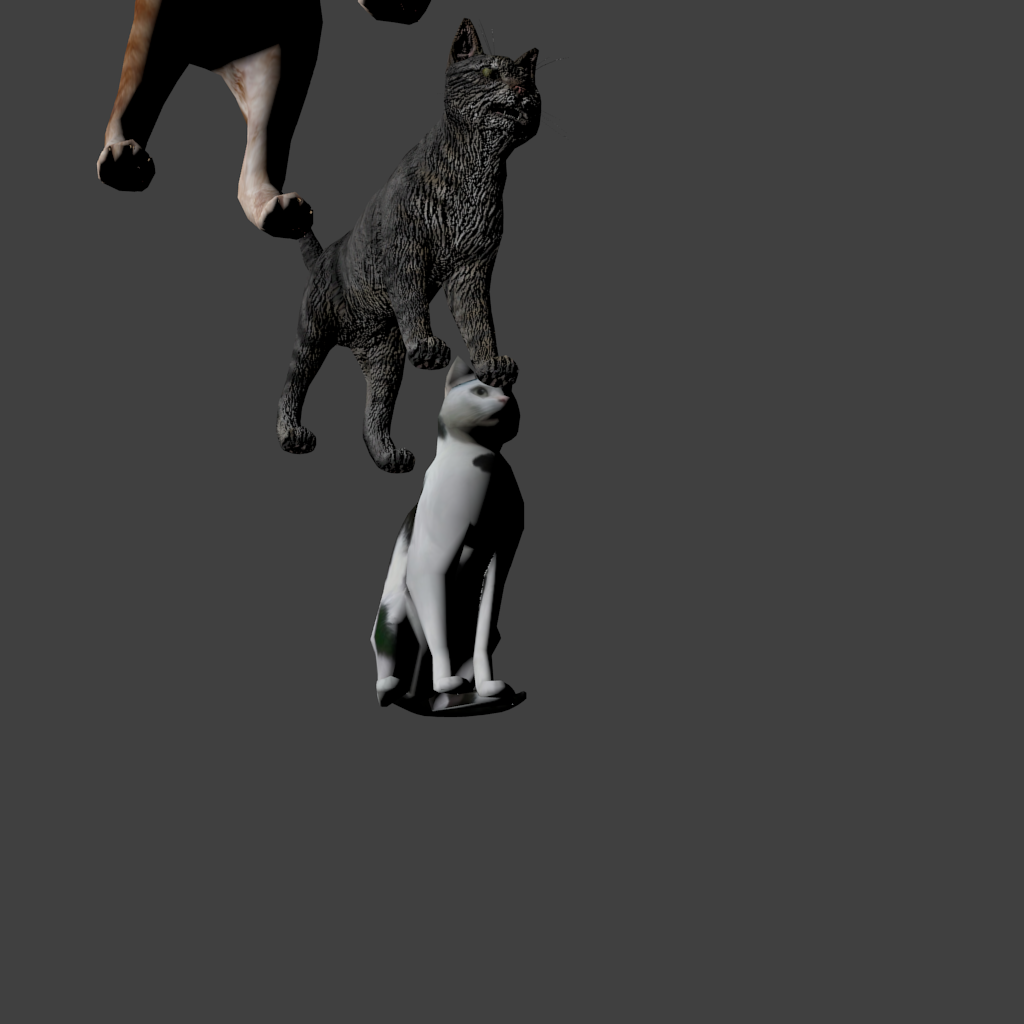Cat: (97, 0, 493, 240), (276, 15, 304, 459)
